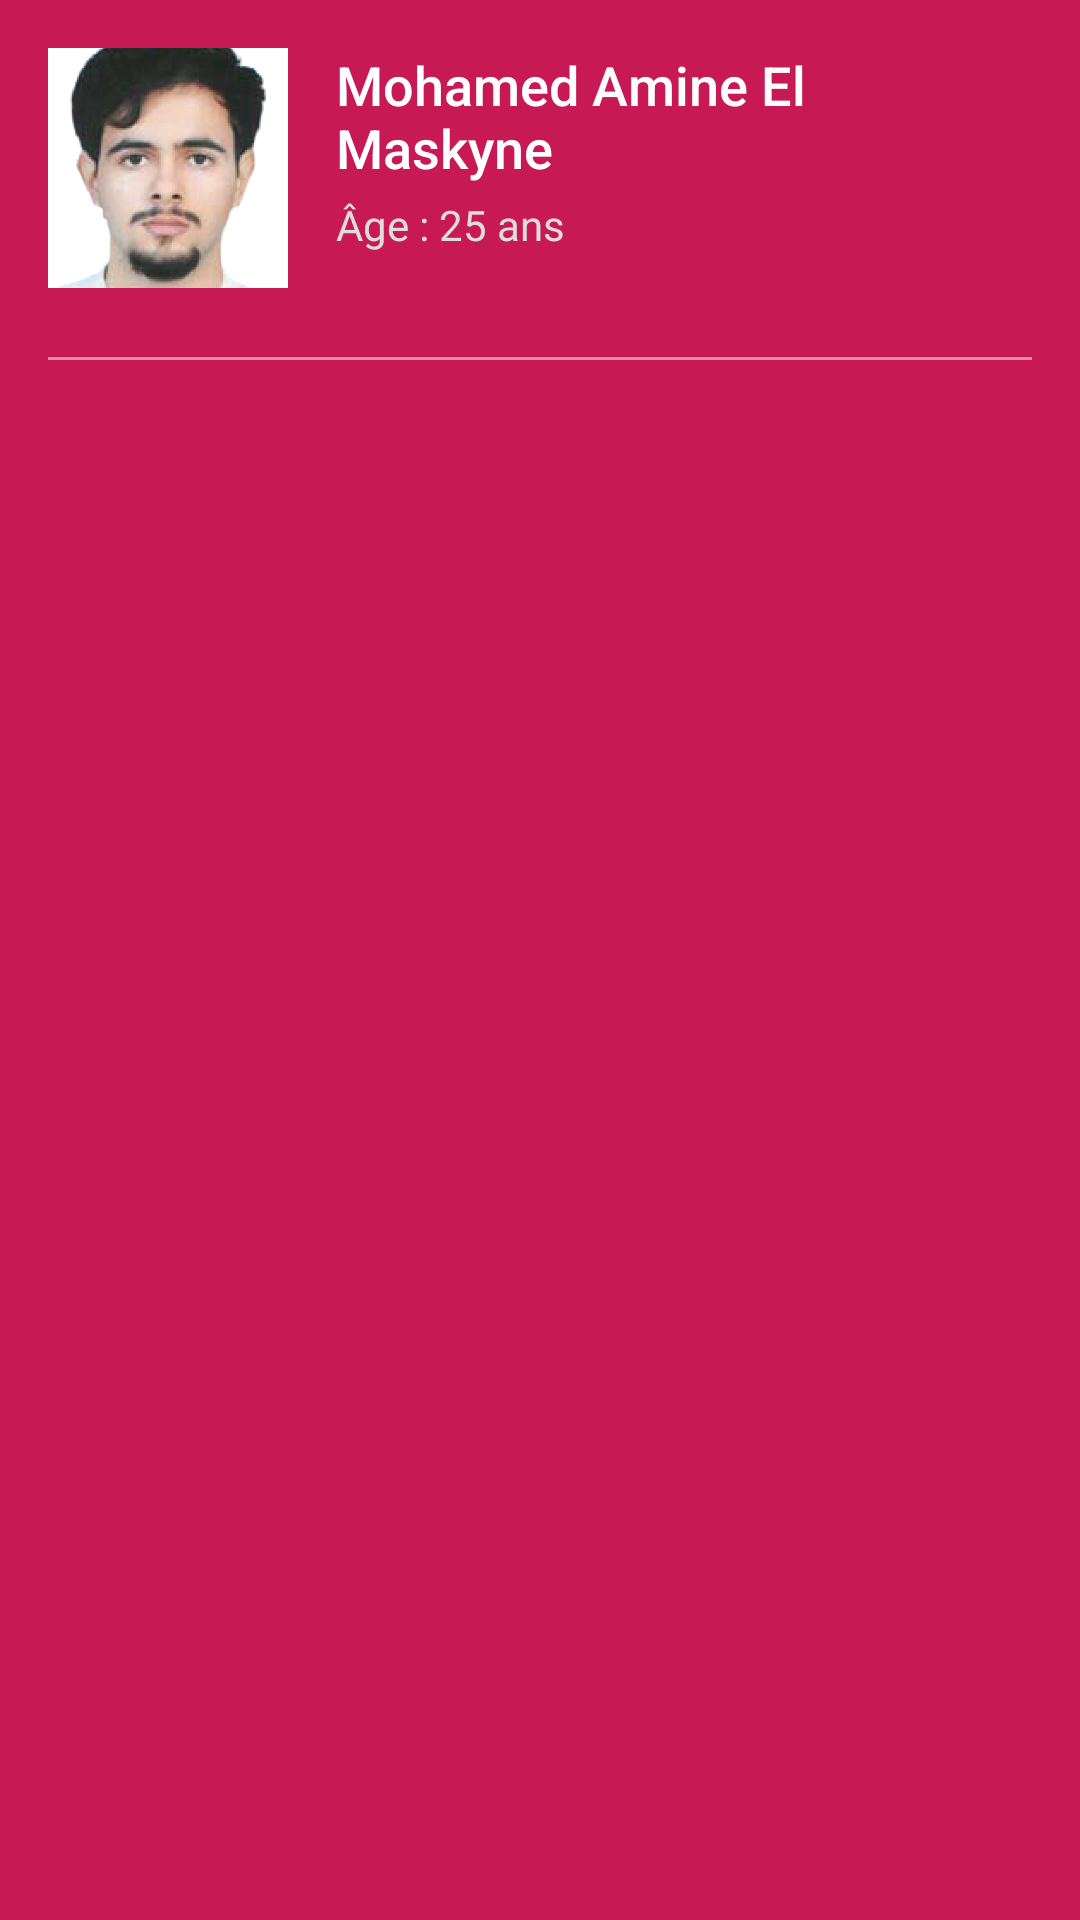

Locate icon controls on the screen. Image size 1080 x 1920, boxes as (x1, y1, x2, y2).
Photo de profil de l'utilisateur: (48, 48, 288, 288)
